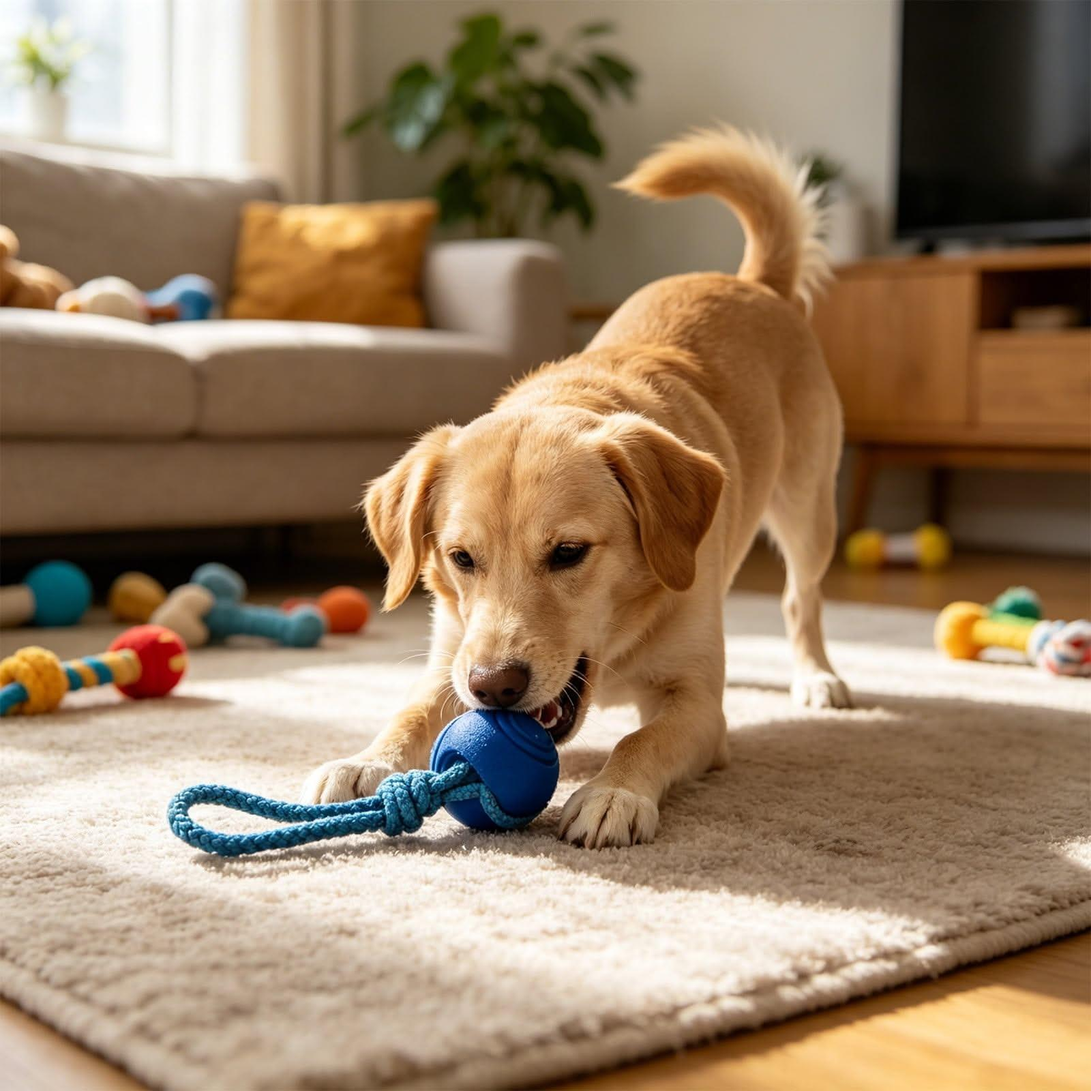adult_dog: (301, 123, 855, 853)
